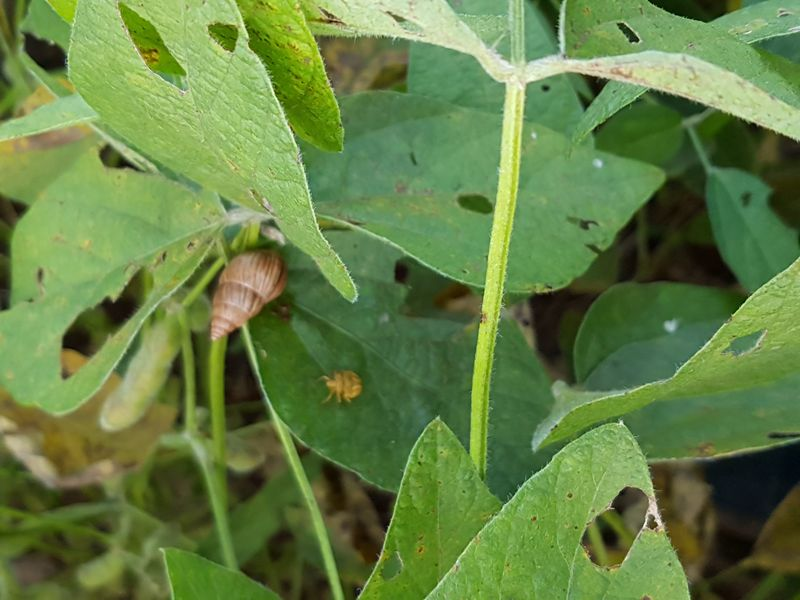Euschistus_heros_ninfa: (311, 362, 366, 414)
Gastropoda: (196, 236, 304, 350)
